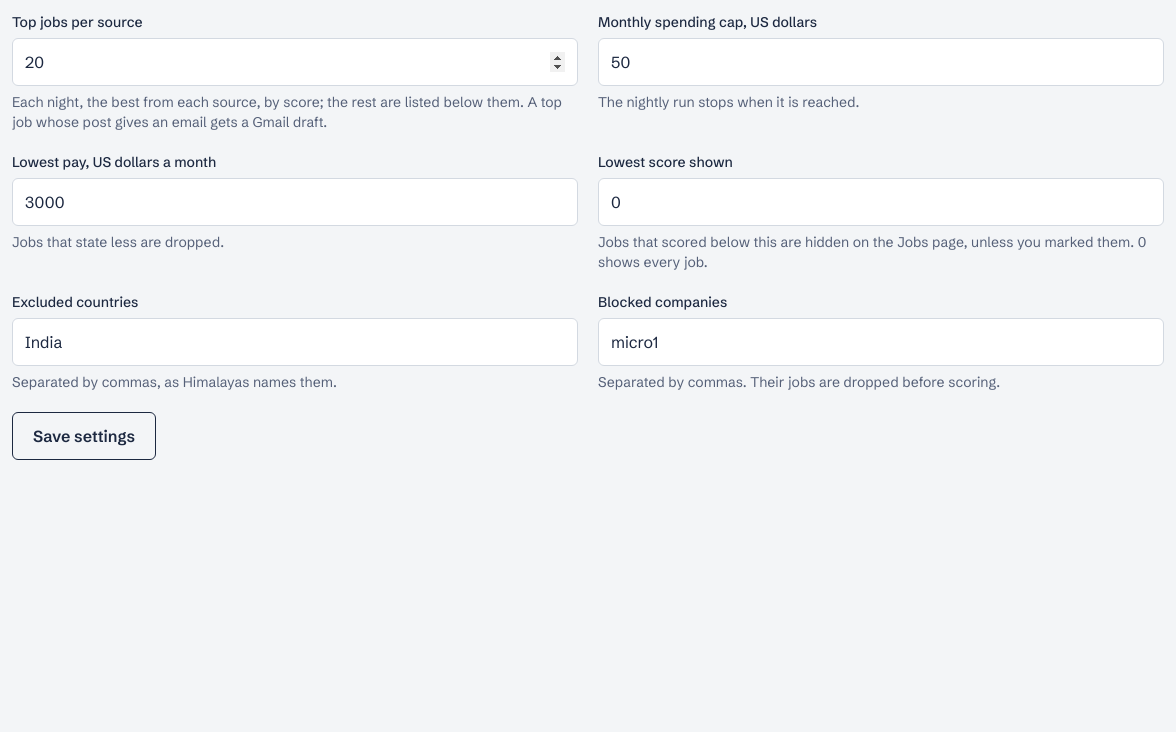
Test: shows the saved settings, and saves the edited ones with the countries and companies as lists
Check: the field labelled "Excluded countries" holds "India", box [12,318,578,366]
Replace the text in the number field labelled "Top jobs per source" with "12" at point(295, 62), box [12,38,578,86]
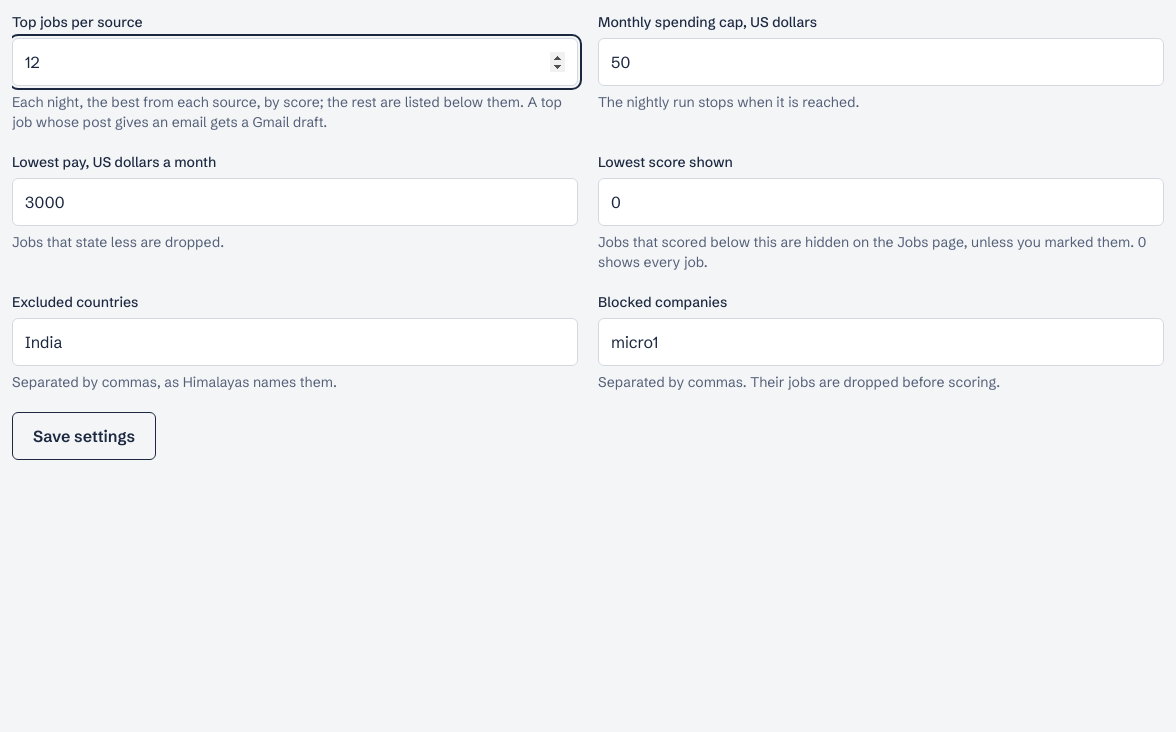
Replace the text in the number field labelled "Lowest score shown" with "60" at point(881, 202), box [598,178,1164,226]
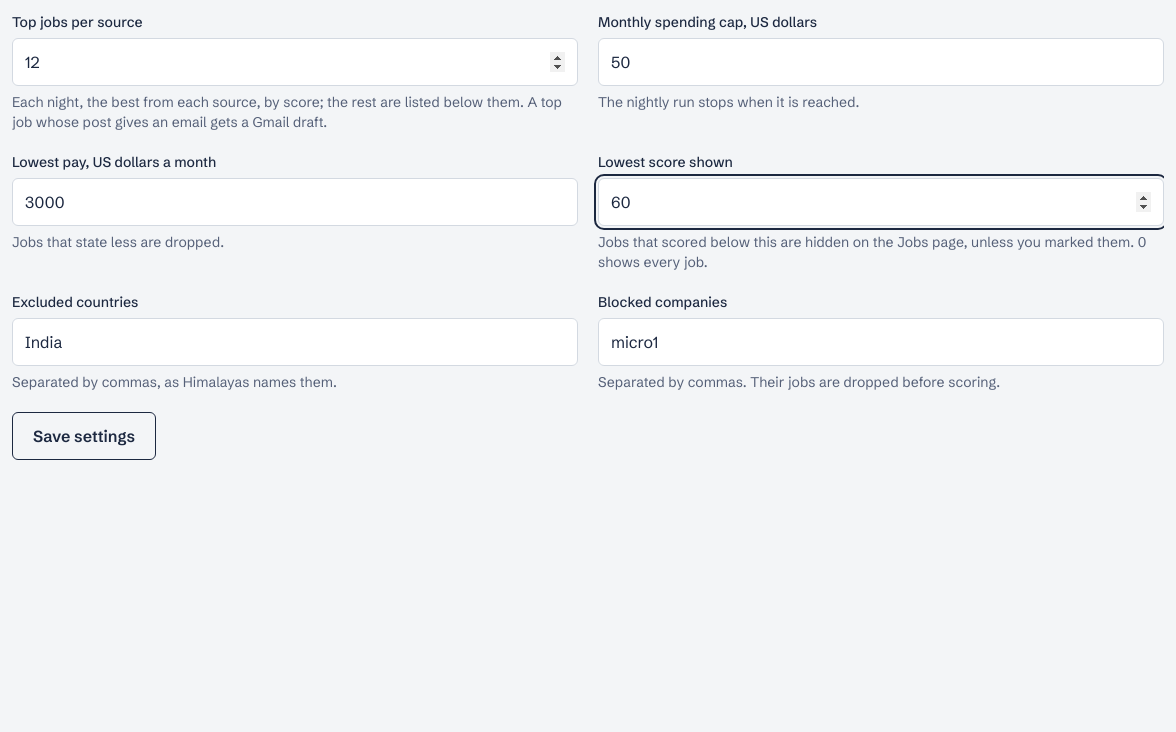
Type ", Nigeria ," into the field labelled "Excluded countries" at point(295, 342), box [12,318,578,366]
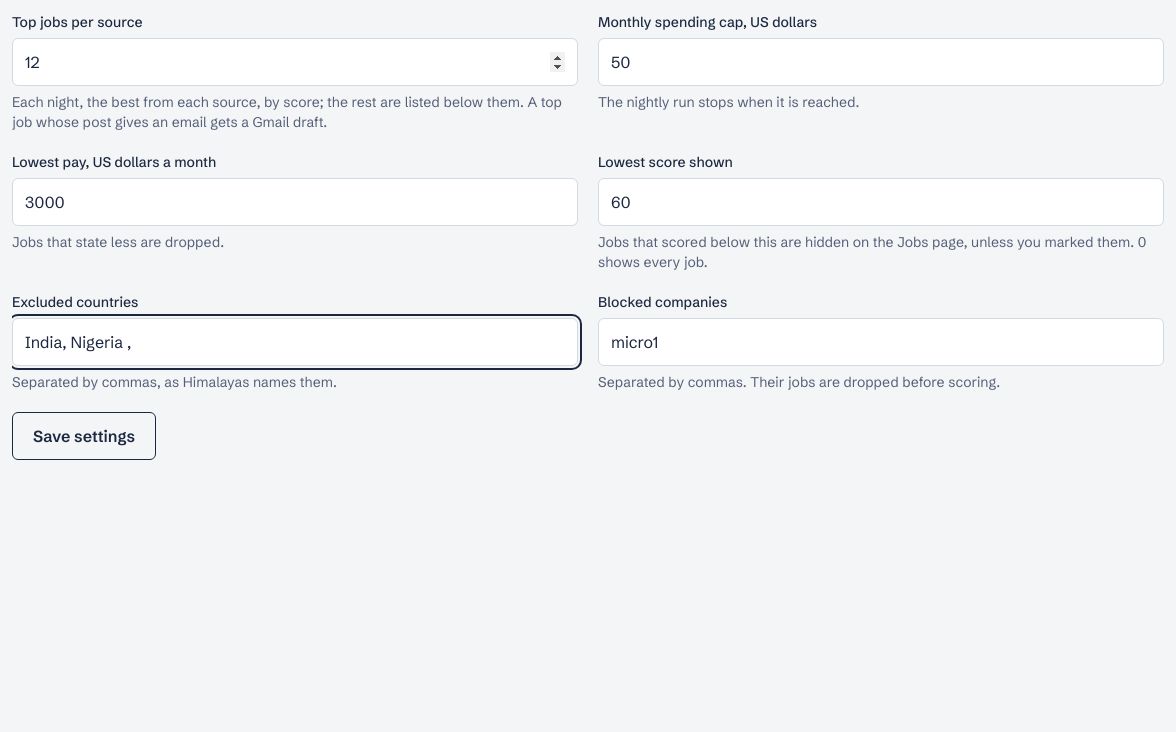
Type ", KDCI" into the field labelled "Blocked companies" at point(881, 342), box [598,318,1164,366]
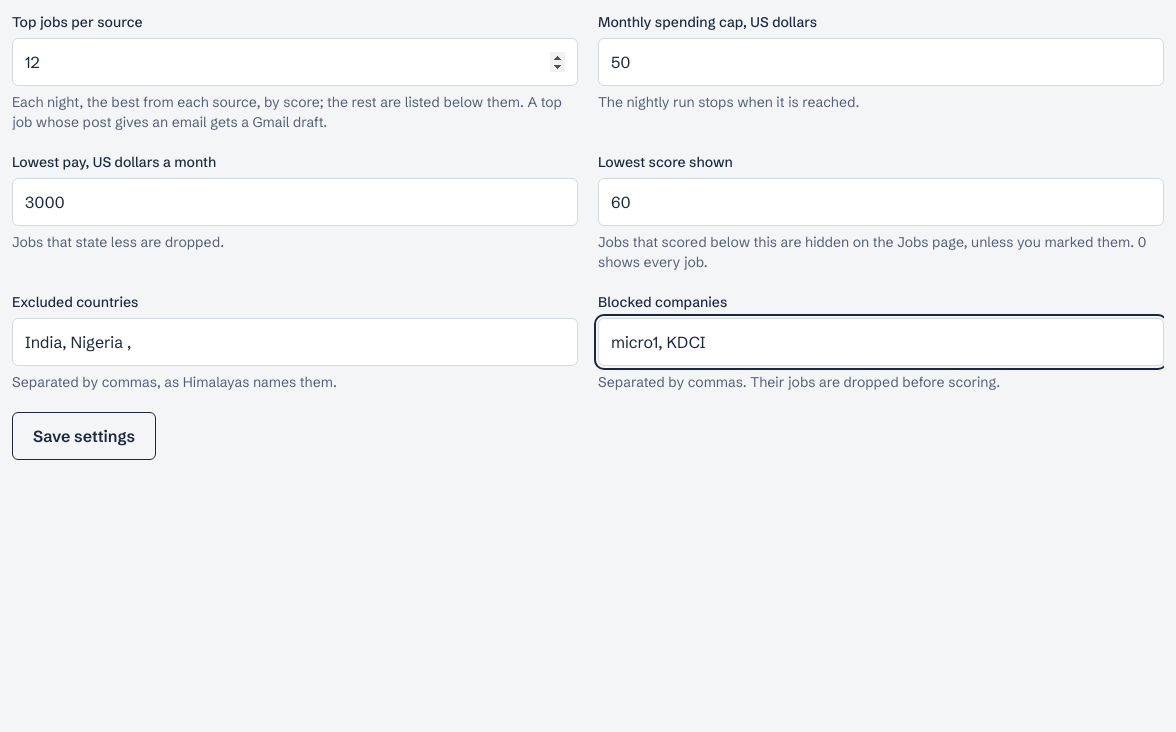
Click the button "Save settings" at point(84, 436), box [12,412,156,460]
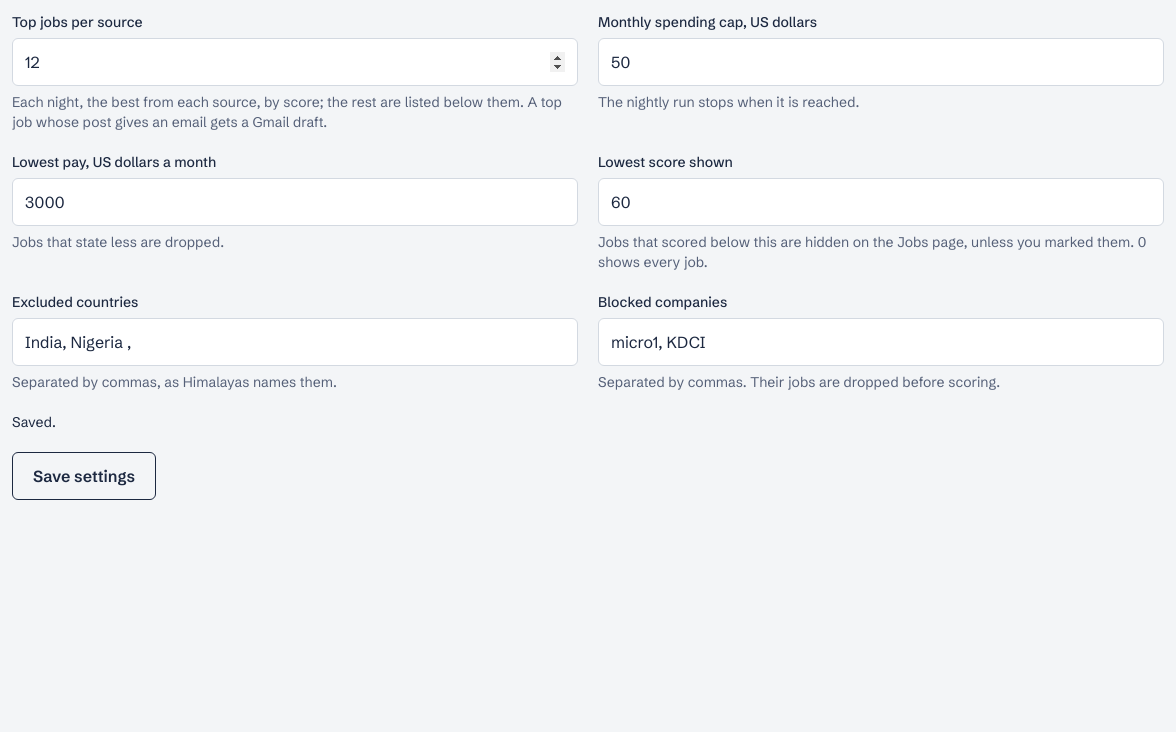
Check: the message shows "Saved", box [12,413,56,431]
